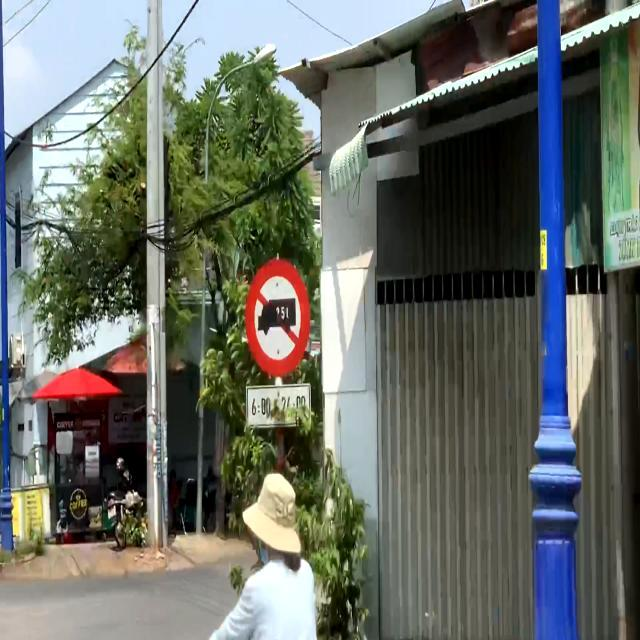Cam xe tai tren 2_5: (246, 259, 310, 374)
